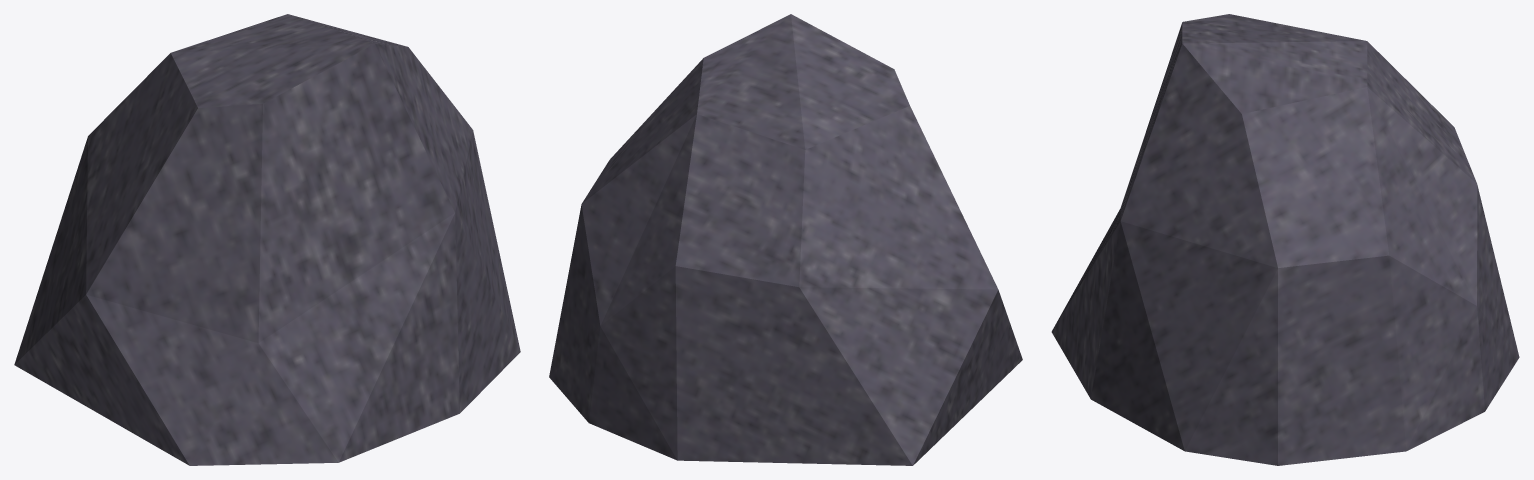
Rendered from Dest_Rock.fbx.
3 renders of one model, left to right at view 1: azimuth 30°, elevation 25°; view 2: azimuth 150°, elevation 25°; view 3: azimuth 270°, elevation 25°, orthographic. The views are drawn at different scales.
Visible parts, largest first — view 1: Sphere001; view 2: Sphere001; view 3: Sphere001.
Part boxes in pixels (<box>): Sphere001: <box>14,14,520,465</box>; Sphere001: <box>549,14,1022,465</box>; Sphere001: <box>1051,14,1519,465</box>.
Bounding box in the file's own units: 20.48 × 15.54 × 19.53.
Materials: 1 (1 with a texture image).
